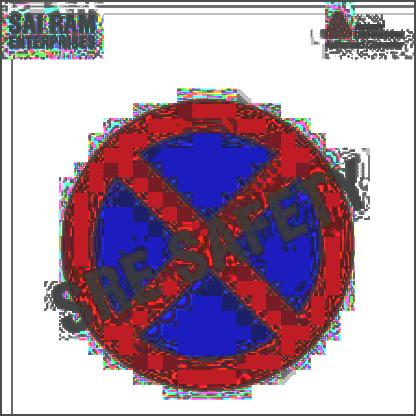No stopping: (63, 97, 354, 390)
